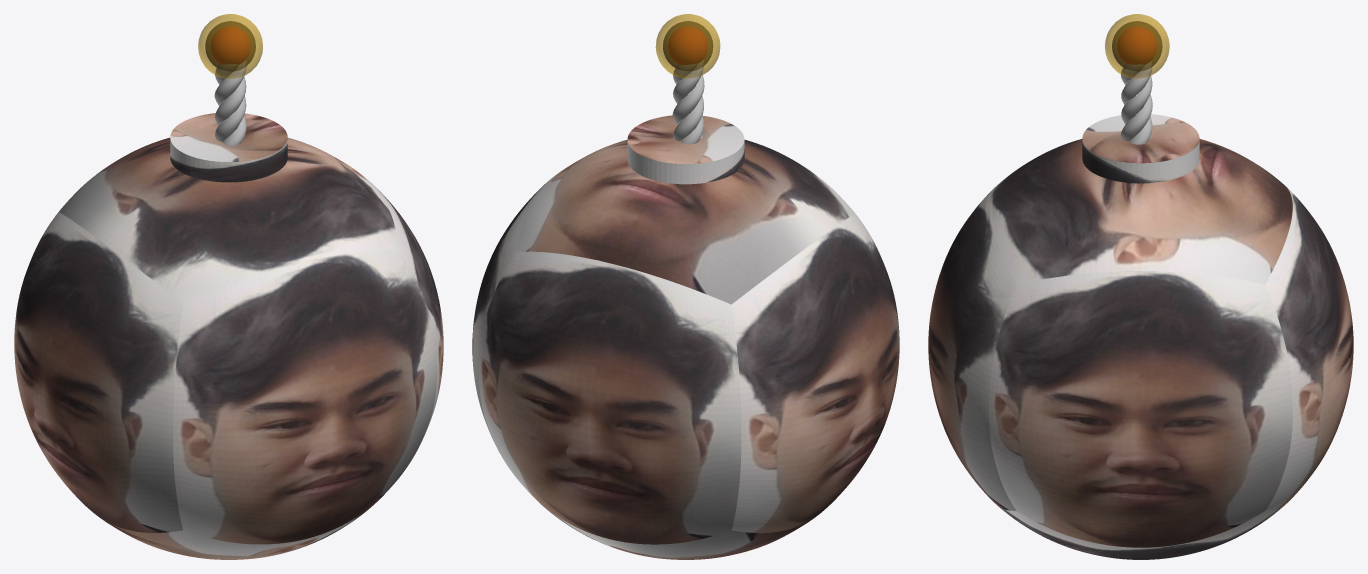
Rendered from Bomb - Ravin.fbx.
3 renders of one model, left to right at view 1: azimuth 30°, elevation 25°; view 2: azimuth 150°, elevation 25°; view 3: azimuth 270°, elevation 25°, orthographic.
Parts seen in each view (by area): view 1: Sphere.002; view 2: Sphere.002; view 3: Sphere.002.
Part boxes in pixels (x1,y1,x2,y2): Sphere.002: (14,14,443,559); Sphere.002: (472,14,899,559); Sphere.002: (928,14,1353,559).
Size of the model in its own units: 196 by 265 by 196.
